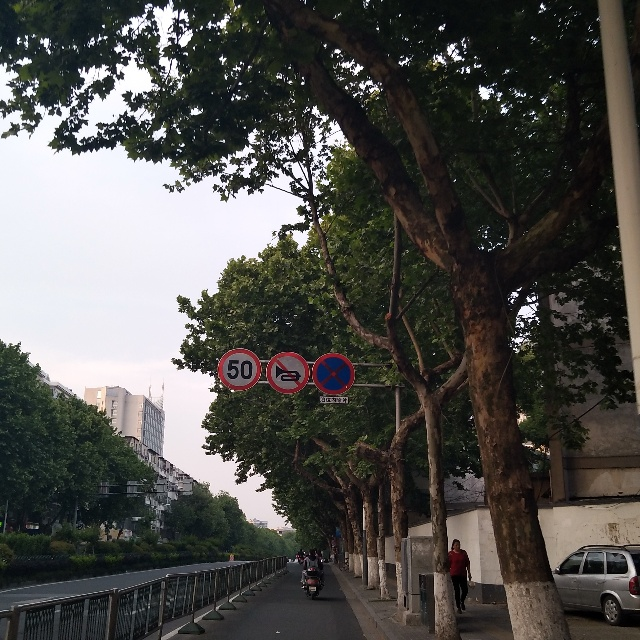nohonk: (270, 355, 305, 391)
stop: (316, 354, 351, 390)
